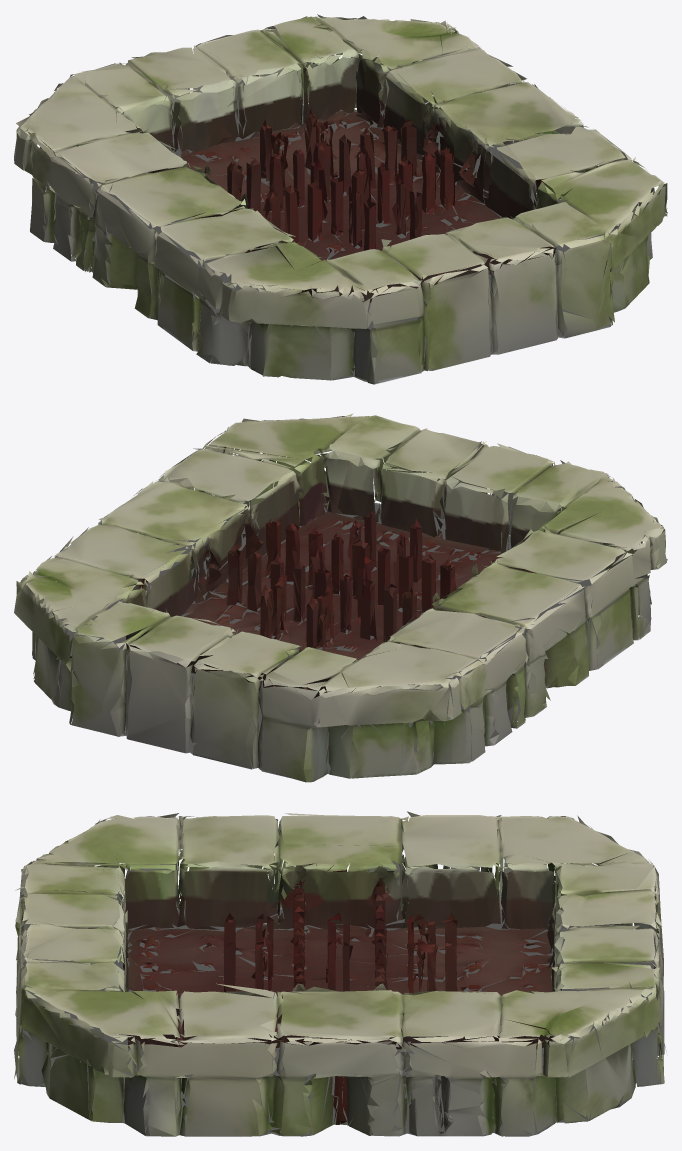
File: Lab_SpikeTrap.glb
The picture shows the model from 3 angles, top to bottom: view 1: azimuth 30°, elevation 25°; view 2: azimuth 150°, elevation 25°; view 3: azimuth 270°, elevation 25°; orthographic projection. The views are drawn at different scales.
Parts seen in each view (by area): view 1: Lab_SpikeTrap; view 2: Lab_SpikeTrap; view 3: Lab_SpikeTrap.
Boxes of the visible parts, x1,y1,x2,y2 form: Lab_SpikeTrap: [14, 14, 667, 384]; Lab_SpikeTrap: [14, 413, 667, 782]; Lab_SpikeTrap: [14, 811, 666, 1136].
Bounding box in the file's own units: 4.55 × 0.971 × 5.41.
Materials: 1 (1 with a texture image).
